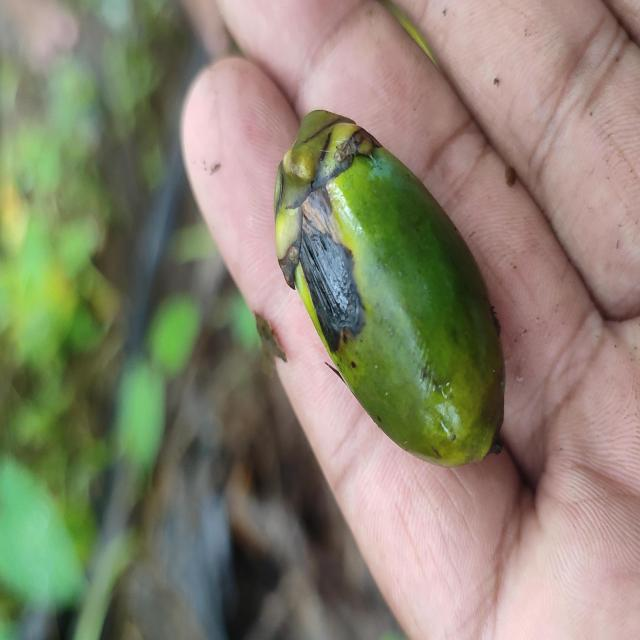damaged: (273, 110, 506, 469)
